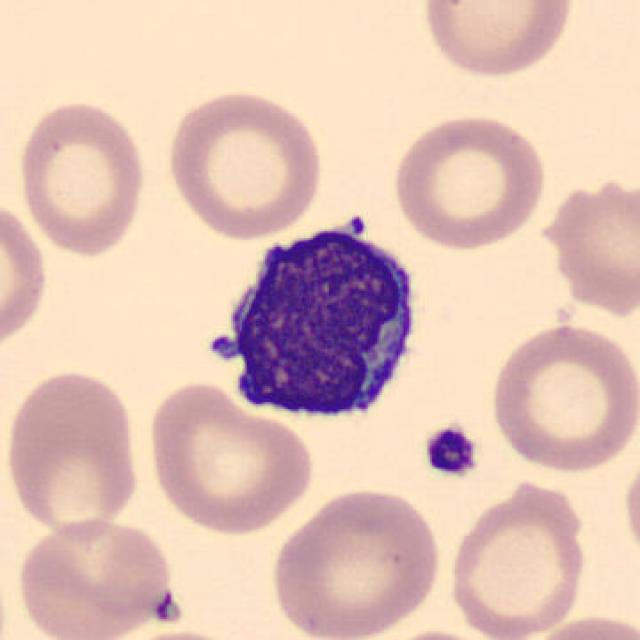Lymphocyte: (206, 206, 428, 432)
Platelets: (419, 423, 482, 480), (151, 590, 183, 628)
RBC: (142, 377, 318, 538), (258, 483, 437, 640), (162, 85, 327, 242), (0, 365, 144, 539), (443, 474, 592, 640), (486, 319, 638, 476), (386, 109, 549, 252), (14, 95, 151, 259), (12, 515, 178, 640), (532, 169, 638, 321), (416, 0, 580, 81), (0, 194, 52, 360), (524, 612, 638, 640), (620, 448, 640, 571)
